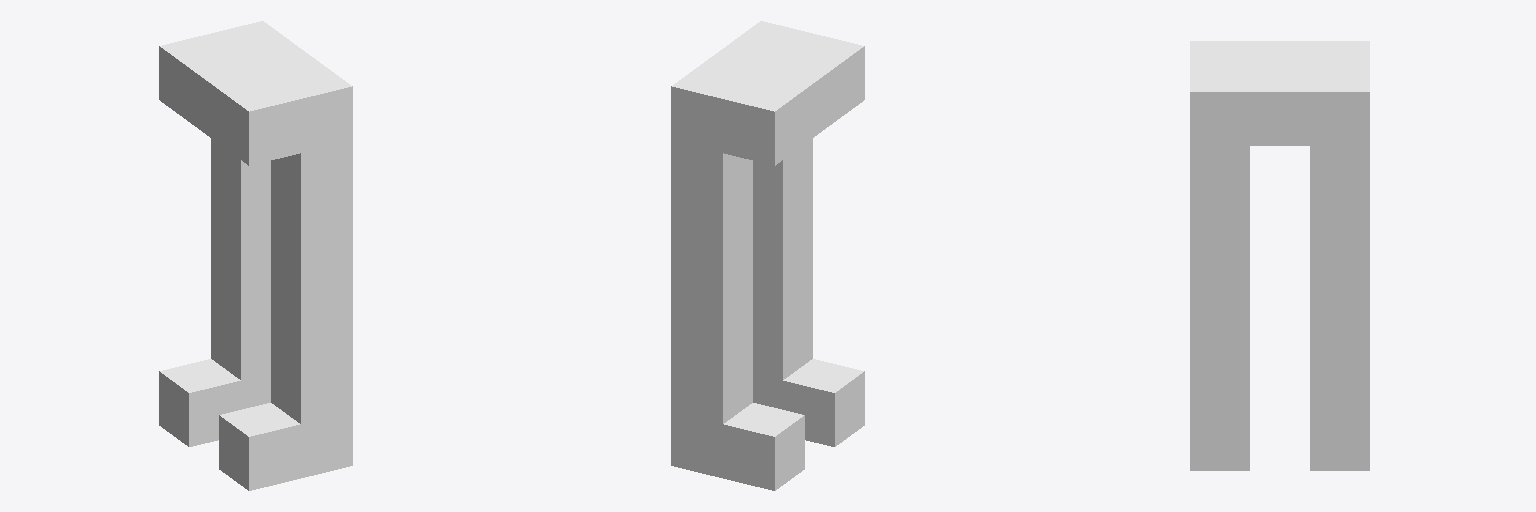
File: thymea-22-torso_stand.obj
The picture shows the model from 3 angles: view 1: azimuth 30°, elevation 25°; view 2: azimuth 150°, elevation 25°; view 3: azimuth 270°, elevation 25°; orthographic projection.
Visible parts, largest first — view 1: torso_stand; view 2: torso_stand; view 3: torso_stand.
Boxes of the visible parts, x1,y1,x2,y2 form: torso_stand: [159, 21, 352, 490]; torso_stand: [671, 21, 864, 490]; torso_stand: [1190, 41, 1369, 470].
Bounding box in the file's own units: 0.2 × 0.7 × 0.3.